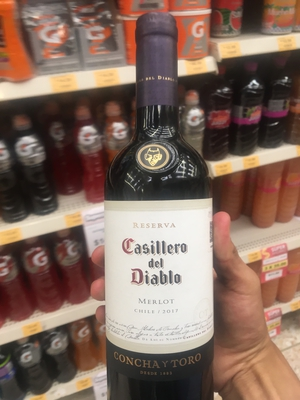casillero del diablo merlot: (99, 18, 225, 400)
